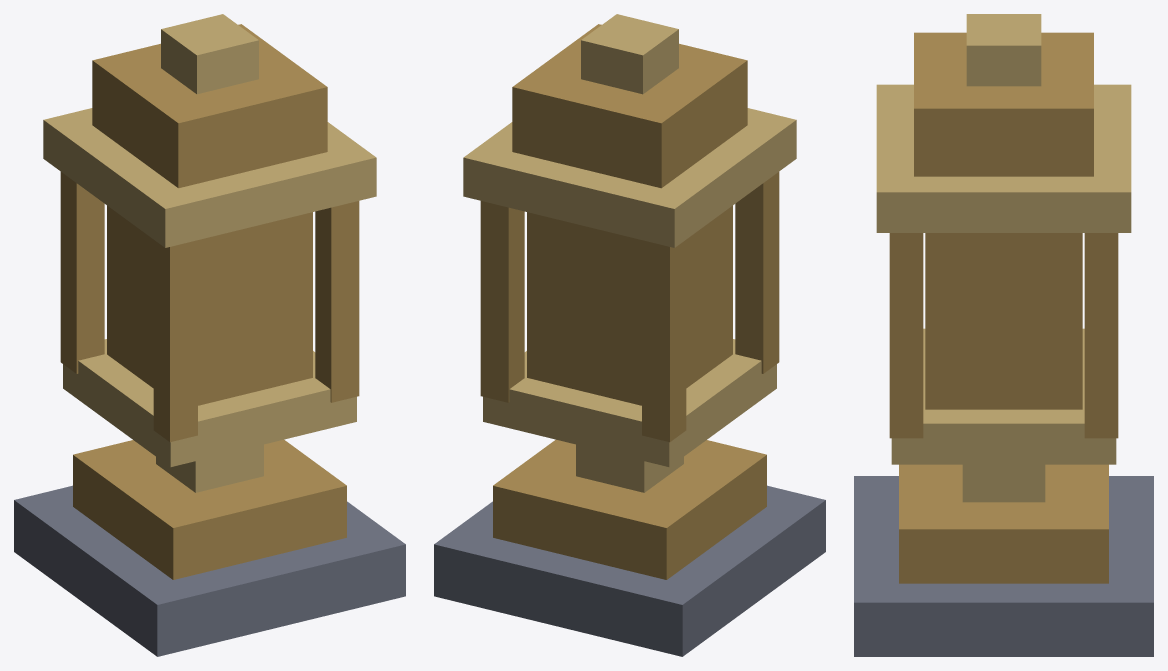
The model's file is lampa_1.glb.
The picture shows the model from 3 angles, left to right: view 1: azimuth 30°, elevation 25°; view 2: azimuth 150°, elevation 25°; view 3: azimuth 270°, elevation 25°; orthographic projection. The views are drawn at different scales.
Parts seen in each view (by area): view 1: part_0, part_10, part_1, part_5, part_4, part_3, part_7, part_9, part_6, part_11, part_2; view 2: part_0, part_10, part_1, part_5, part_4, part_3, part_6, part_8, part_7, part_11, part_2; view 3: part_0, part_10, part_5, part_1, part_4, part_3, part_8, part_9, part_11, part_2.
Boxes of the visible parts, <box> form: part_0: <box>14,485,405,656</box>; part_10: <box>107,205,312,405</box>; part_1: <box>73,439,346,579</box>; part_5: <box>92,24,327,188</box>; part_4: <box>43,108,376,247</box>; part_3: <box>63,339,356,467</box>; part_7: <box>153,240,197,442</box>; part_9: <box>315,201,359,402</box>; part_6: <box>60,172,104,373</box>; part_11: <box>161,14,258,94</box>; part_2: <box>156,444,263,492</box>; part_0: <box>434,485,825,656</box>; part_10: <box>527,205,732,405</box>; part_1: <box>493,439,766,579</box>; part_5: <box>512,24,747,188</box>; part_4: <box>463,108,796,247</box>; part_3: <box>483,339,776,467</box>; part_6: <box>642,240,686,442</box>; part_8: <box>480,201,524,402</box>; part_7: <box>735,172,779,373</box>; part_11: <box>581,14,678,94</box>; part_2: <box>576,444,683,492</box>; part_0: <box>854,476,1153,656</box>; part_10: <box>925,233,1082,409</box>; part_5: <box>914,32,1093,176</box>; part_1: <box>899,464,1108,583</box>; part_4: <box>876,84,1131,232</box>; part_3: <box>891,328,1116,464</box>; part_8: <box>1084,233,1118,438</box>; part_9: <box>889,233,923,438</box>; part_11: <box>966,14,1041,86</box>; part_2: <box>962,464,1045,502</box>.
Size of the model in its own units: 0.4 by 0.83 by 0.4.
